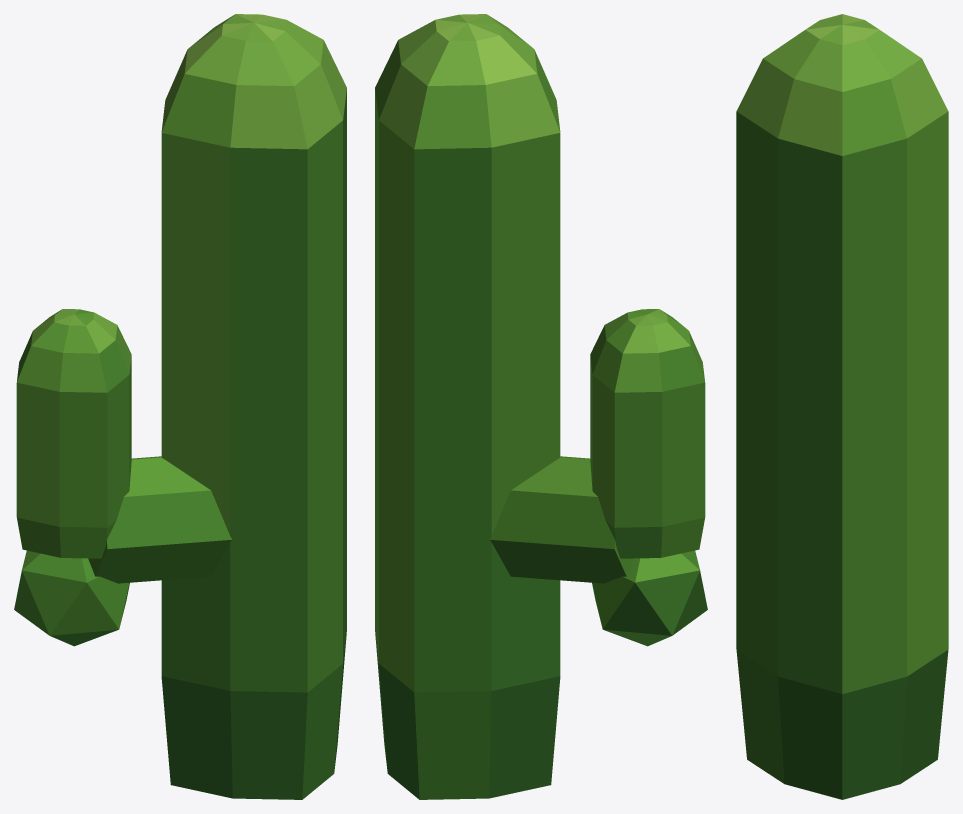
The model's file is SM_CACTUS_MED_01.fbx.
3 views of the same model, side by side, from view 1: azimuth 30°, elevation 25°; view 2: azimuth 150°, elevation 25°; view 3: azimuth 270°, elevation 25° (orthographic).
Parts seen in each view (by area): view 1: CACTUS_MED_01; view 2: CACTUS_MED_01; view 3: CACTUS_MED_01.
Part boxes in pixels (bbox=[...]): CACTUS_MED_01: bbox=[14, 14, 346, 799]; CACTUS_MED_01: bbox=[375, 14, 707, 799]; CACTUS_MED_01: bbox=[736, 14, 948, 799].
Size of the model in its own units: 0.6054 by 0.34 by 1.3.
